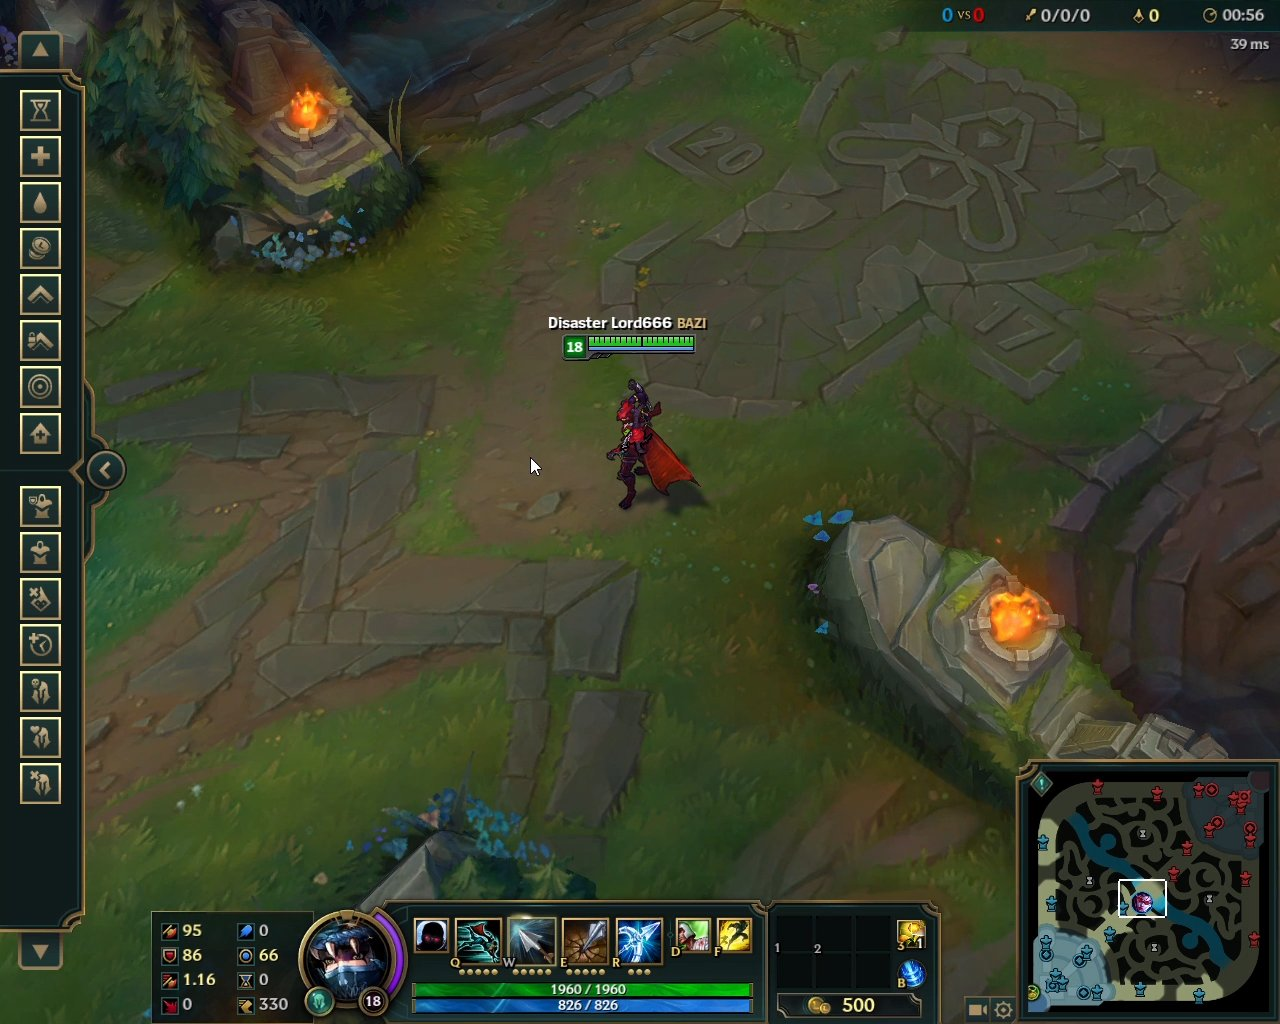Vayne: (598, 373, 702, 514)
